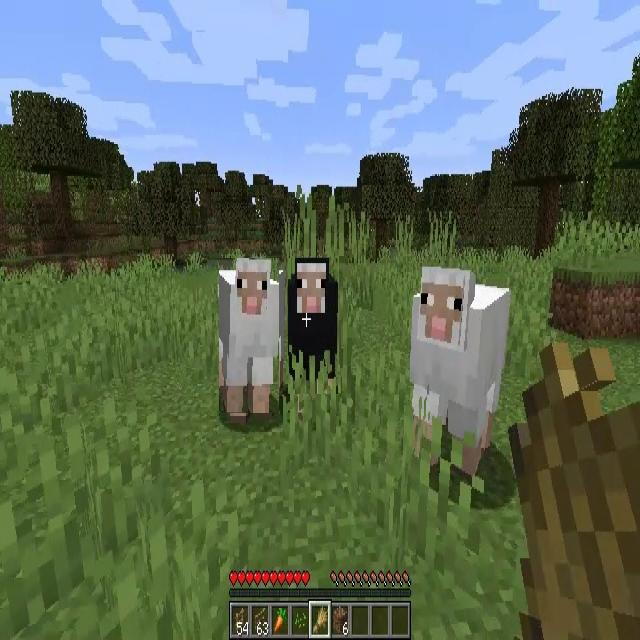sheep: (411, 265, 508, 471), (220, 258, 280, 413), (288, 258, 338, 394)
